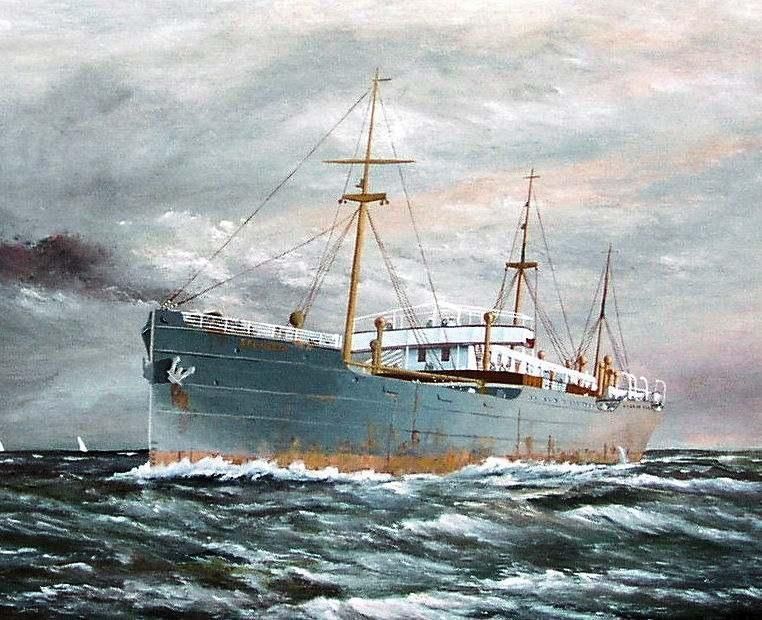fanchuan: (135, 55, 693, 484)
